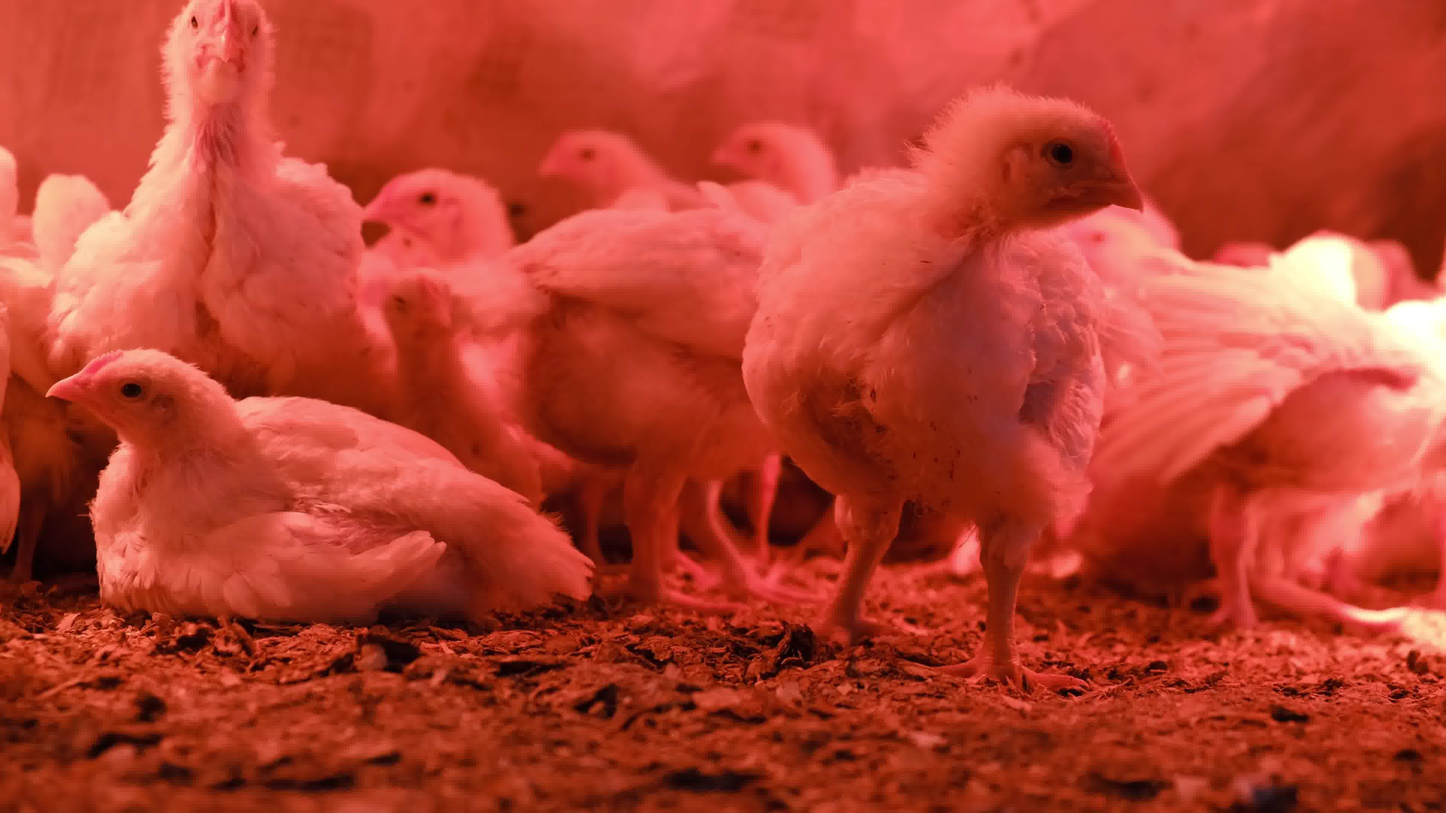AbNormal: (39, 346, 593, 618)
Normal: (757, 78, 1149, 679), (489, 187, 829, 596), (1097, 277, 1443, 623), (63, 0, 366, 387), (373, 271, 566, 506), (376, 162, 514, 265), (533, 121, 686, 207), (700, 113, 848, 184), (31, 170, 113, 273), (1064, 211, 1153, 282), (0, 143, 21, 238)
